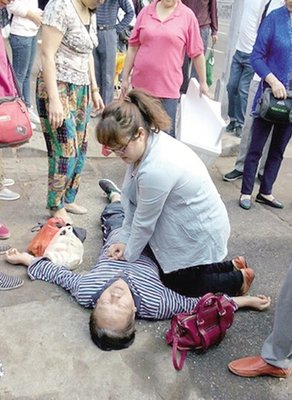fall: (18, 183, 275, 346)
